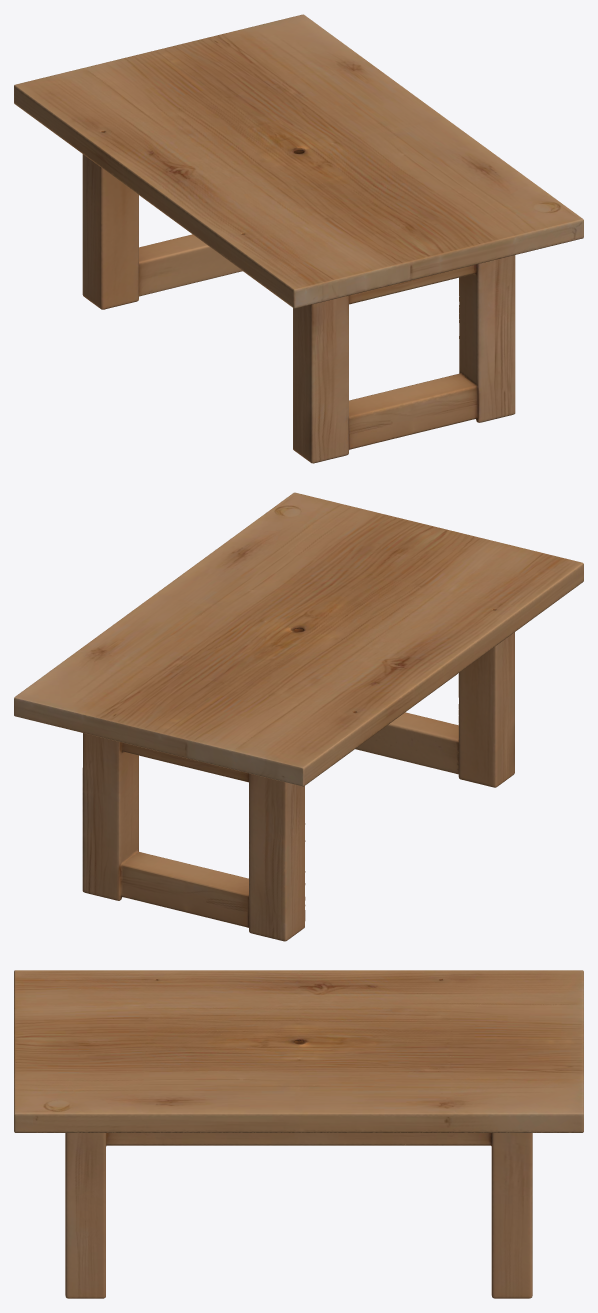
Rendered from detailed_realistic_model_largeoaktable_10.glb.
3 views of the same model, one above another, from view 1: azimuth 30°, elevation 25°; view 2: azimuth 150°, elevation 25°; view 3: azimuth 270°, elevation 25° (orthographic).
Parts seen in each view (by area): view 1: tripo_node_c2c3d5cd-0c96-4f4e-9e80-6115fe820617; view 2: tripo_node_c2c3d5cd-0c96-4f4e-9e80-6115fe820617; view 3: tripo_node_c2c3d5cd-0c96-4f4e-9e80-6115fe820617.
Boxes of the visible parts, x1,y1,x2,y2 form: tripo_node_c2c3d5cd-0c96-4f4e-9e80-6115fe820617: (14,14,583,463); tripo_node_c2c3d5cd-0c96-4f4e-9e80-6115fe820617: (14,492,583,941); tripo_node_c2c3d5cd-0c96-4f4e-9e80-6115fe820617: (14,970,583,1298).
Bounding box in the file's own units: 0.5972 × 0.4017 × 1.
1 material, 1 textured.
